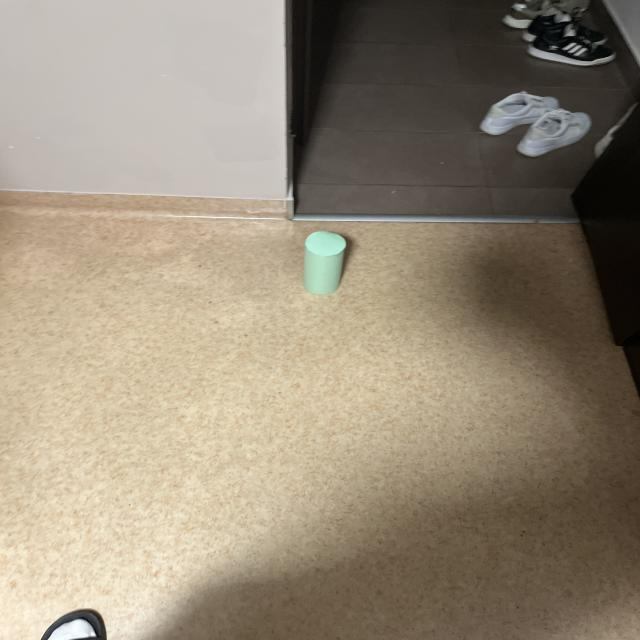meta: (304, 231, 346, 294)
